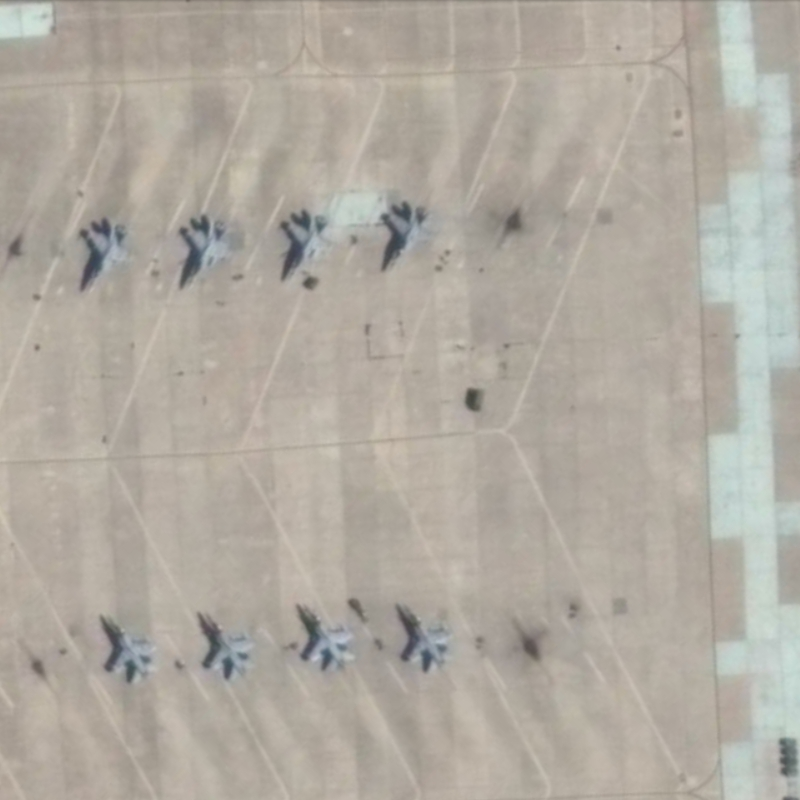A16: (291, 594, 363, 679), (71, 210, 139, 297), (171, 203, 234, 296), (195, 603, 264, 687), (270, 203, 337, 287), (98, 609, 165, 691), (392, 596, 457, 678), (376, 192, 433, 275)
